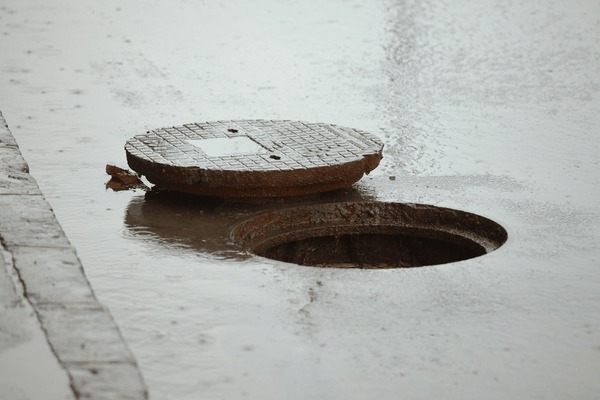open_manhole: (237, 198, 508, 281)
